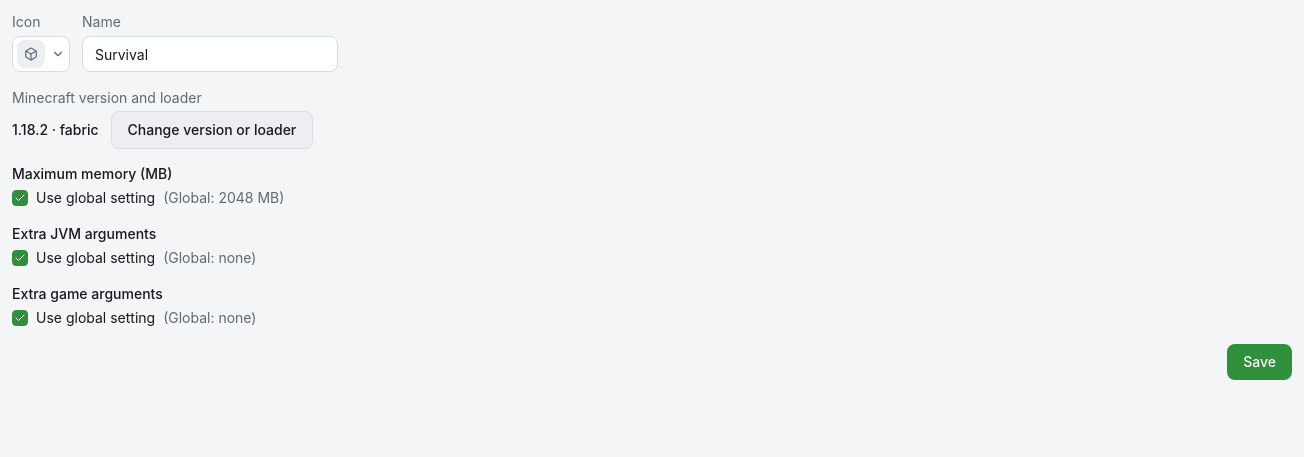
ProfileEditor › can't save an unclosed quote, and warns about -Xmx in JVM arguments
Click the checkbox named "Use global setting" below "Extra JVM arguments": (20, 258) [12,250,28,266]
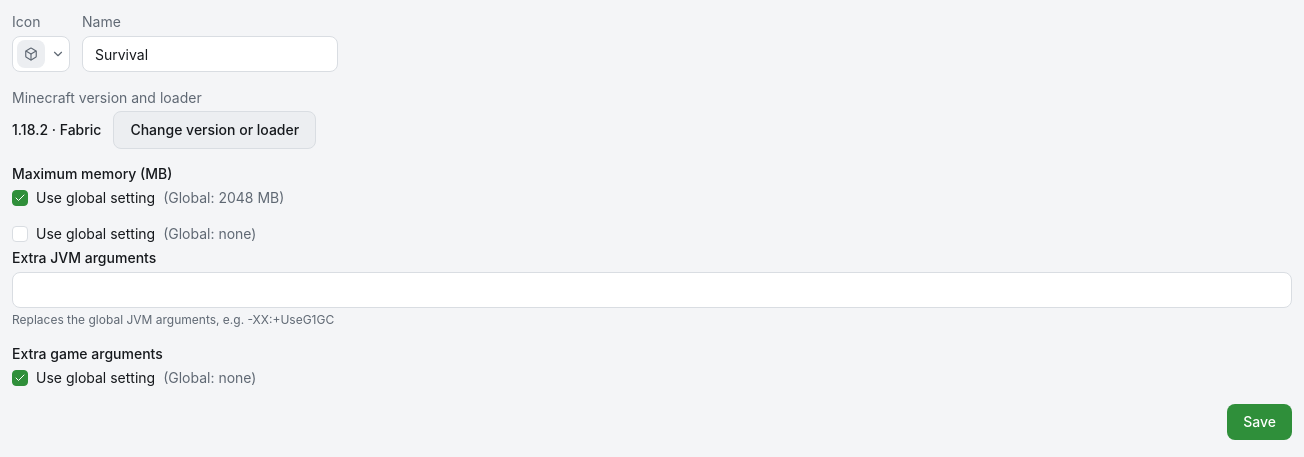
In the field labelled "Extra JVM arguments": (652, 290) [12,272,1292,308], type "-Xmx4G"
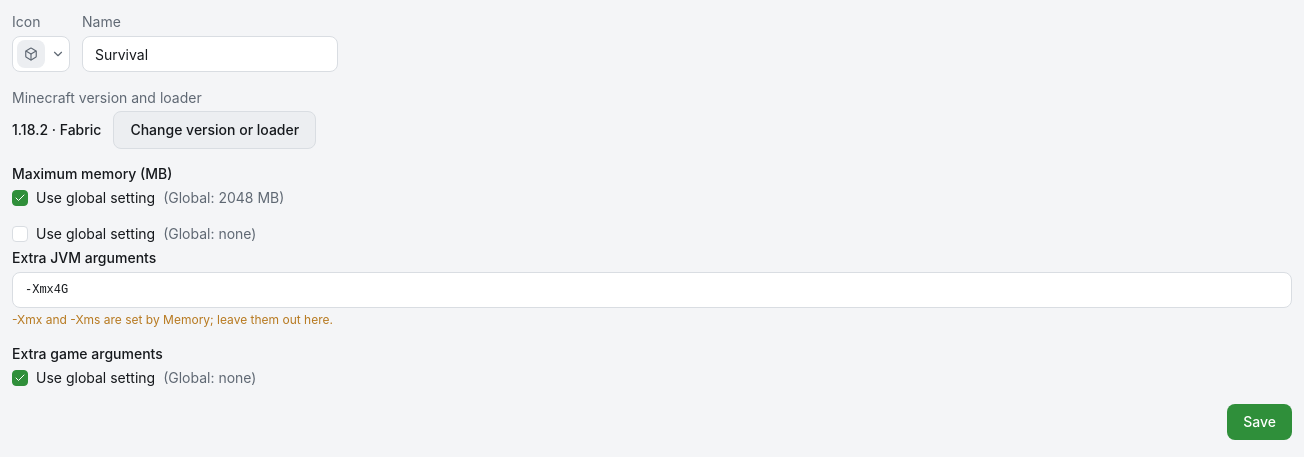
expect the text "-Xmx and -Xms are set by Memory; leave them out here." is shown: met, box [12,312,333,327]
Replace the text in the field labelled "Extra JVM arguments" with "\"-Dopen": (652, 290) [12,272,1292,308]
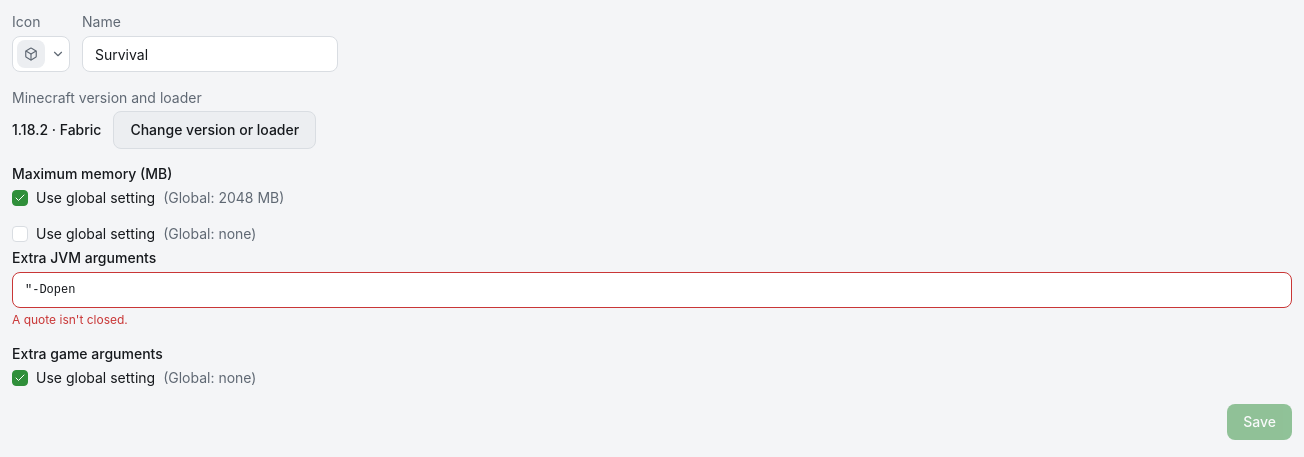
expect the text "A quote isn't closed." is shown: met, box [12,312,128,327]
expect the button "Save" is disabled: met, box [1227,404,1292,440]
